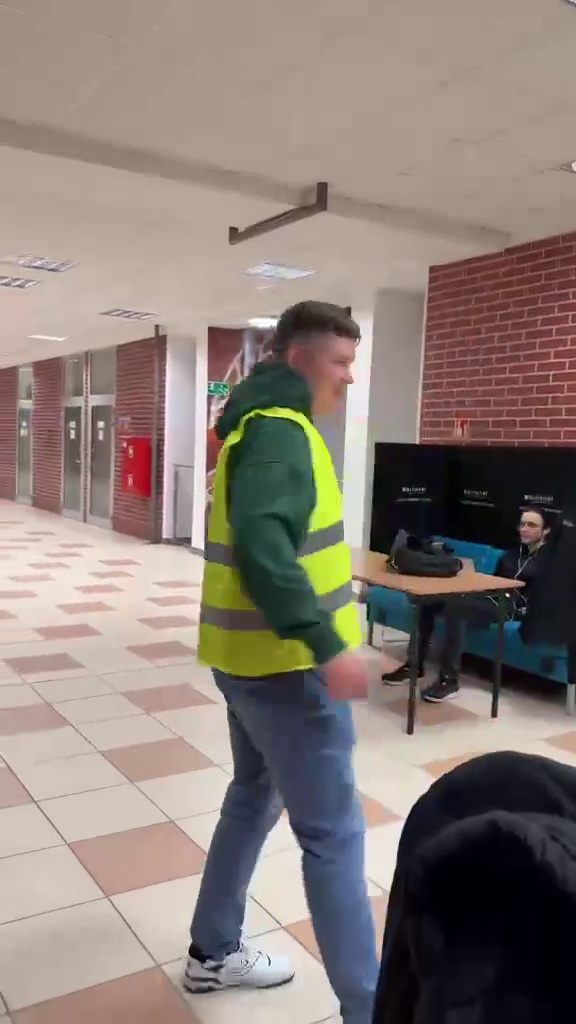no vest: (439, 497, 563, 669)
vest: (196, 299, 405, 1000)
